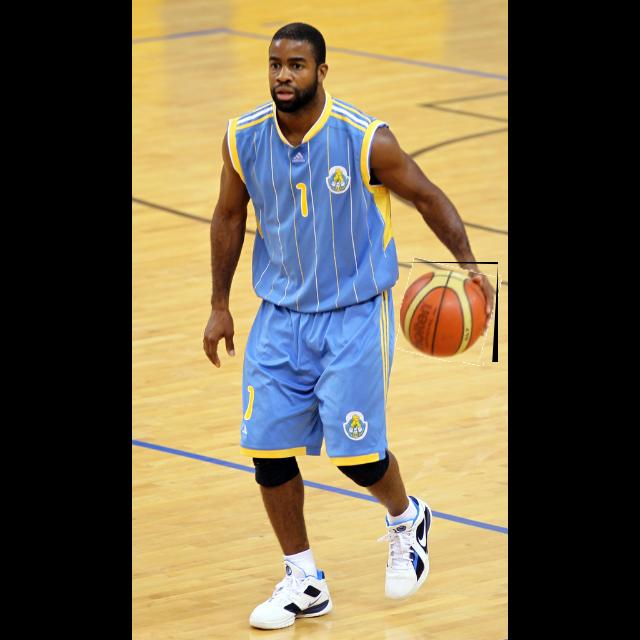Football: (400, 262, 498, 362)
